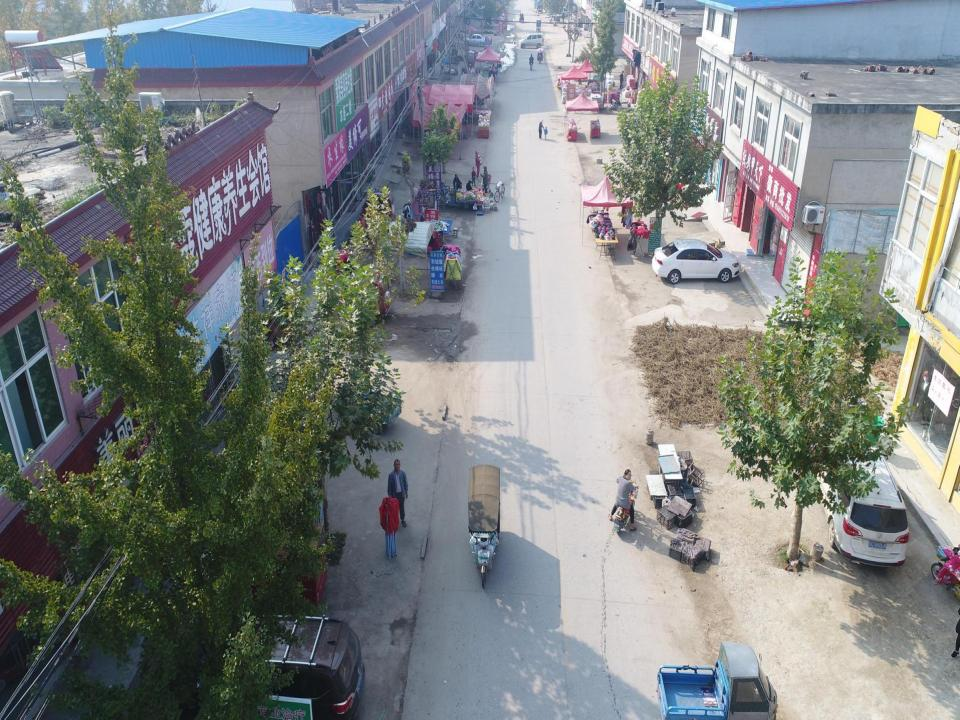car: (200, 614, 365, 718), (813, 420, 908, 568), (651, 238, 739, 282), (463, 32, 488, 46)
truck: (536, 20, 541, 31)
van: (519, 34, 544, 50)
